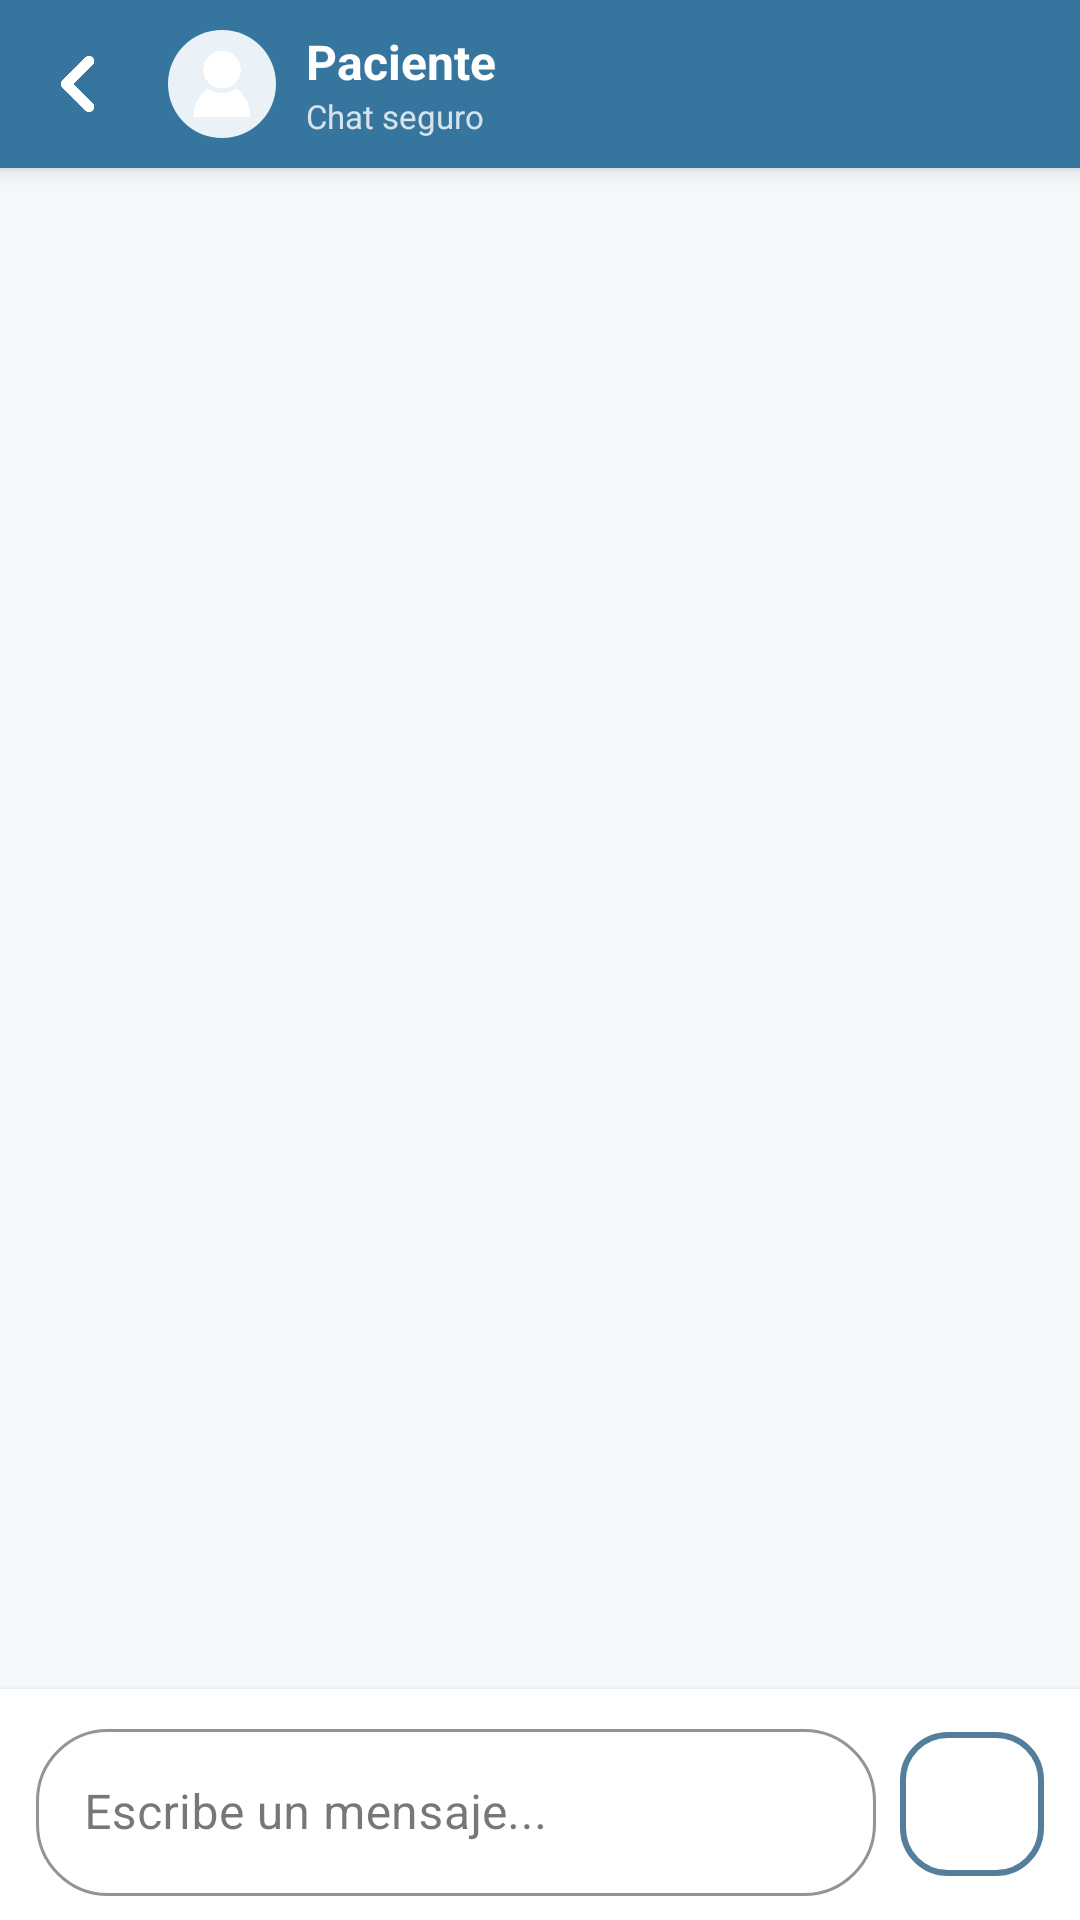

Named icons in this screenshot (1080w x 1920h) and their centers, (x=x, y=y):
Avatar: (x=222, y=84)
Volver: (x=77, y=84)
